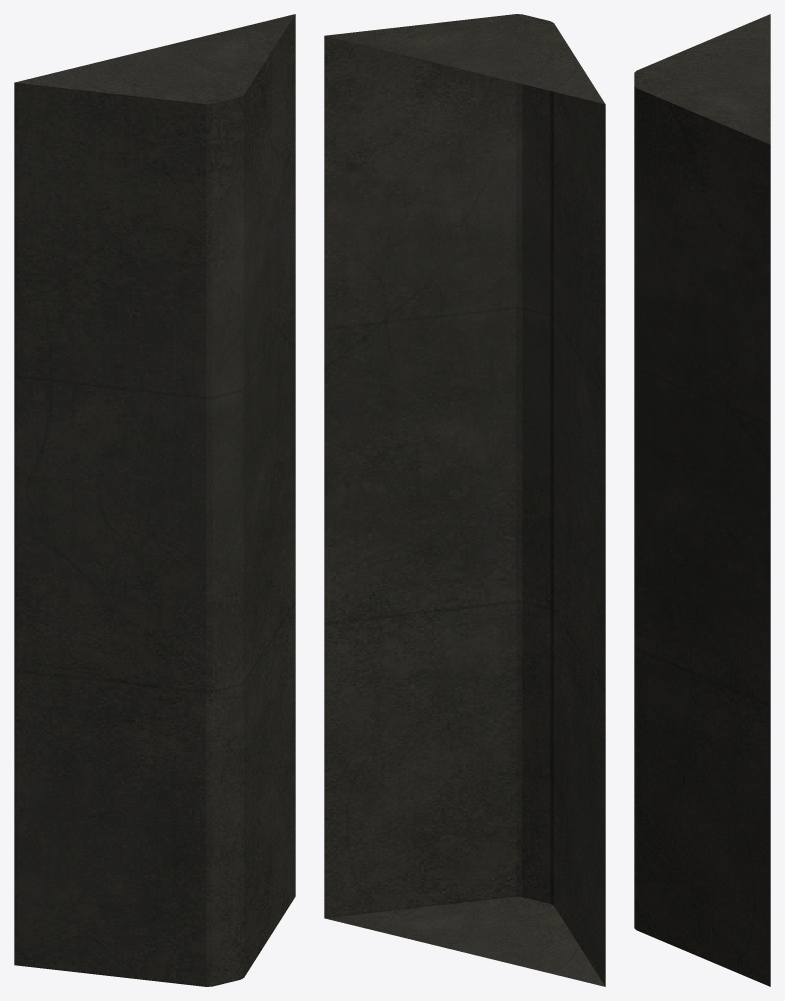
Rendered from wall_element_2.glb.
The picture shows the model from 3 angles, left to right: view 1: azimuth 30°, elevation 25°; view 2: azimuth 150°, elevation 25°; view 3: azimuth 270°, elevation 25°; orthographic projection. The views are drawn at different scales.
Parts seen in each view (by area): view 1: wall_element_2; view 2: wall_element_2; view 3: wall_element_2.
Part boxes in pixels (bbox=[...]): wall_element_2: bbox=[14, 14, 295, 986]; wall_element_2: bbox=[324, 14, 605, 986]; wall_element_2: bbox=[634, 14, 770, 986].
Size of the model in its own units: 1 by 3 by 0.44.
Materials: 1 (1 with a texture image).
